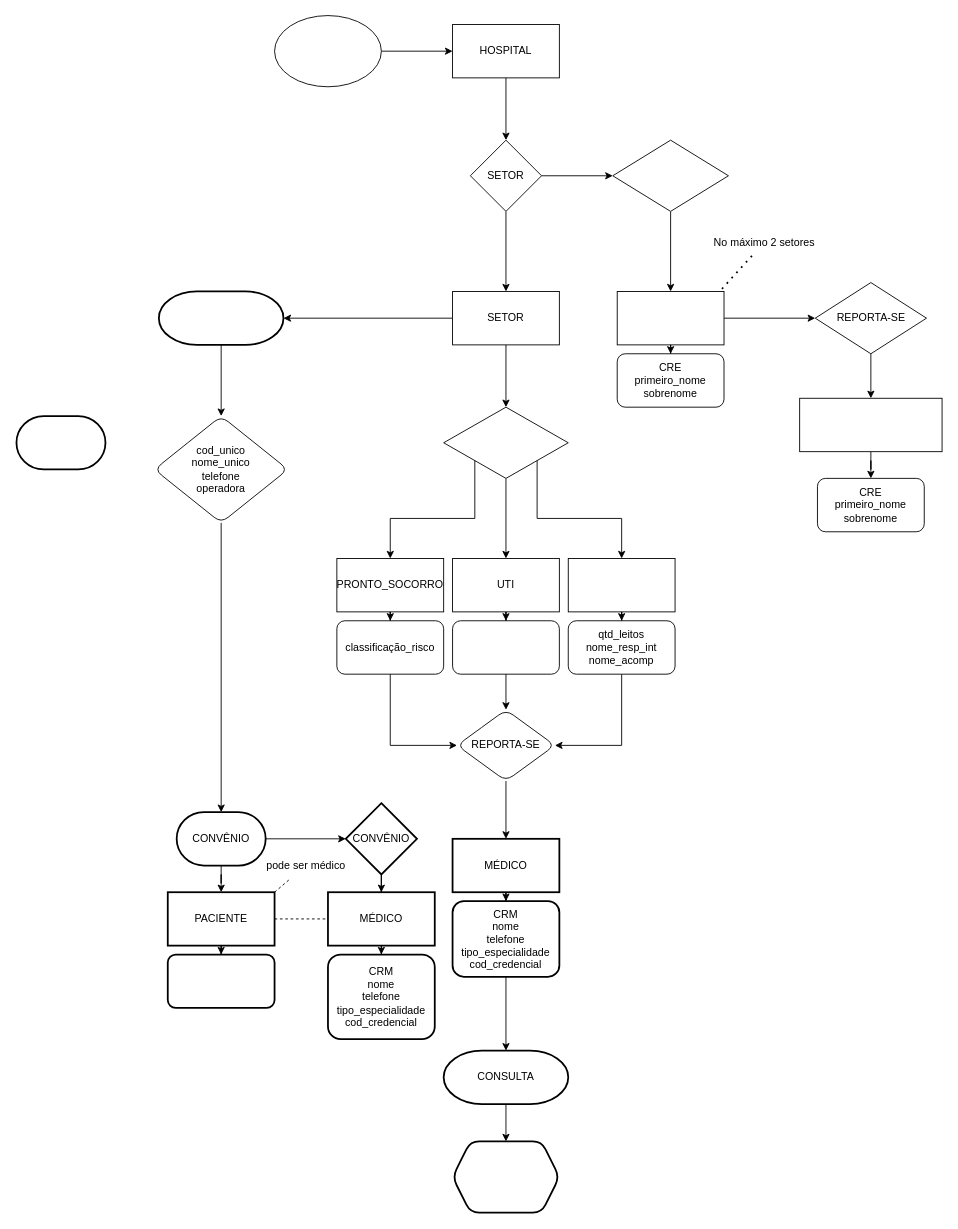
The diagram is 958 pixels wide and 1229 high, and some of its shapes have lost their labels. Here are the shapes that lost their labels. From the top down, the box of each, then its label:
(274, 15, 381, 87): CNPJ
(612, 139, 728, 211): RESPONSÁVEL
(158, 290, 284, 345): PLANO DE SAÚDE
(616, 291, 724, 345): ENFERMEIRA
(443, 406, 568, 478): CLASSIFICAÇÃO
(799, 397, 942, 452): ENFERMEIRA_CHEFE
(567, 558, 675, 612): INTERNAÇÃO
(452, 620, 559, 674): tipo resp_UTI qtd_leitos
(166, 953, 275, 1008): CPF nome cod_credencial telefone
(451, 1140, 560, 1213): DATA/HORA
